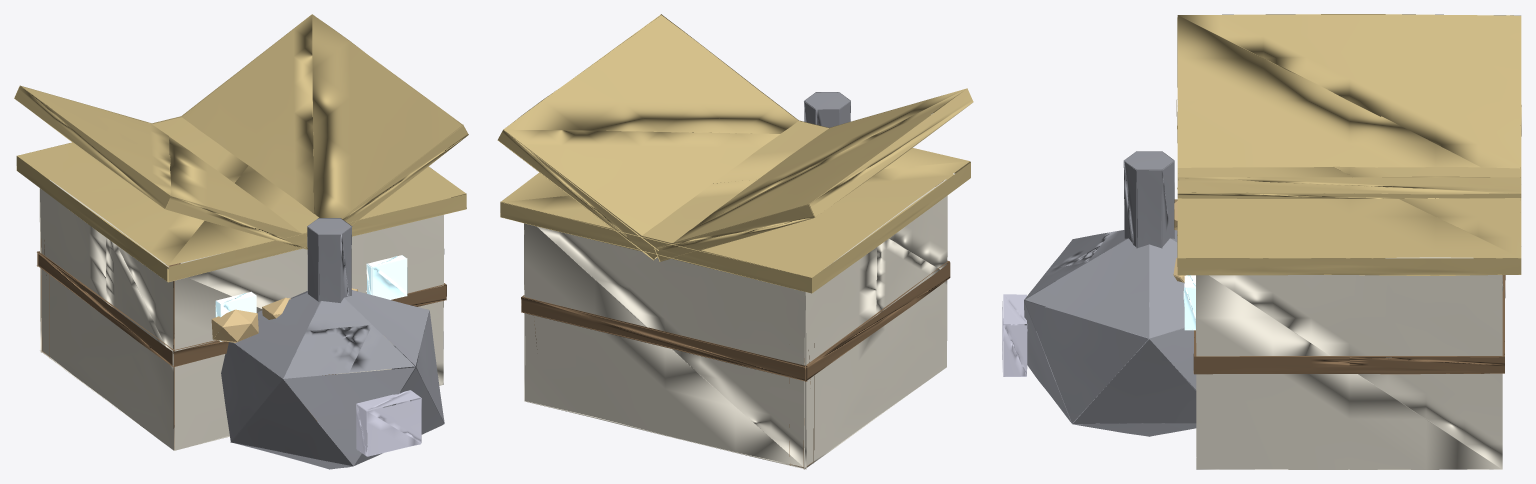
The model's file is bakery.glb.
3 views of the same model, side by side, from view 1: azimuth 30°, elevation 25°; view 2: azimuth 150°, elevation 25°; view 3: azimuth 270°, elevation 25° (orthographic). The views are drawn at different scales.
Parts seen in each view (by area): view 1: BakeryWall; view 2: BakeryWall; view 3: BakeryWall.
Part boxes in pixels (<box>): BakeryWall: <box>14,14,468,469</box>; BakeryWall: <box>497,14,973,469</box>; BakeryWall: <box>1002,14,1521,469</box>.
Bounding box in the file's own units: 1.7 × 1.6 × 2.21.
